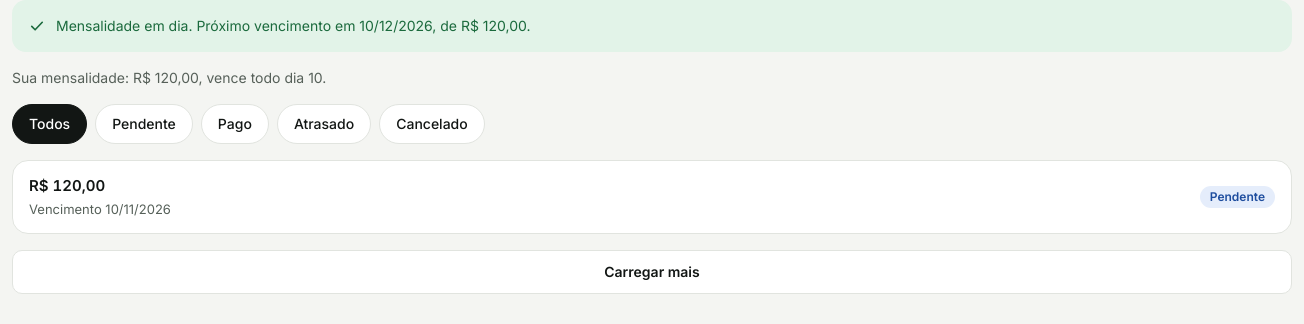
it: MeusPagamentos › Carregar mais junta a página seguinte sem repetir
Click the button "Carregar mais" at (652, 272), box [12,250,1292,294]
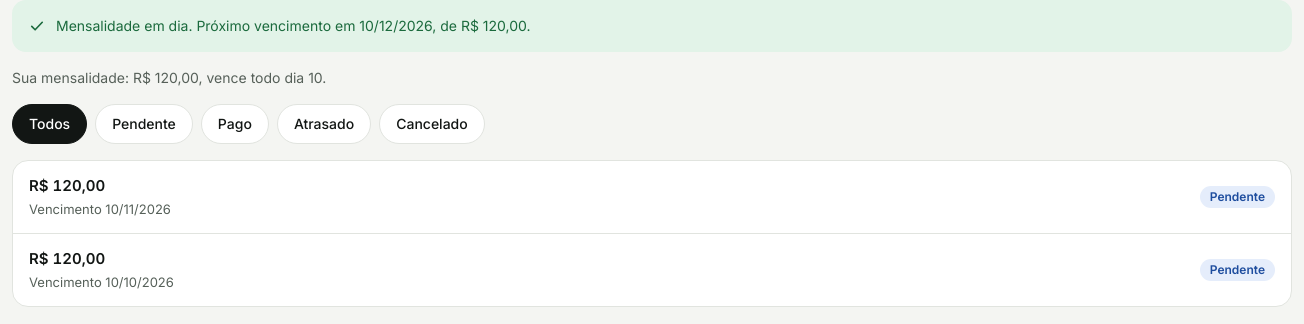
Expected: the text "Vencimento 10/10/2026" is shown, [29,272,174,292]
Expected: the text "Vencimento 10/11/2026" is shown once, [29,200,171,219]
Expected: the button "Carregar mais" is gone
